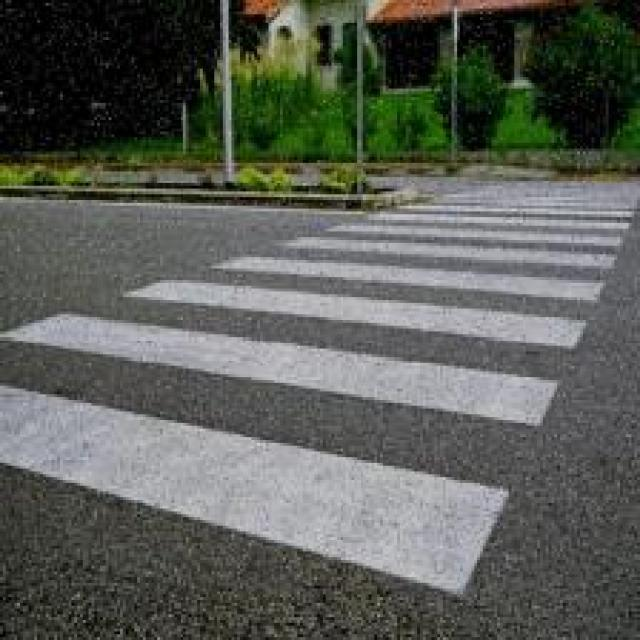crosswalk: (1, 167, 640, 637)
